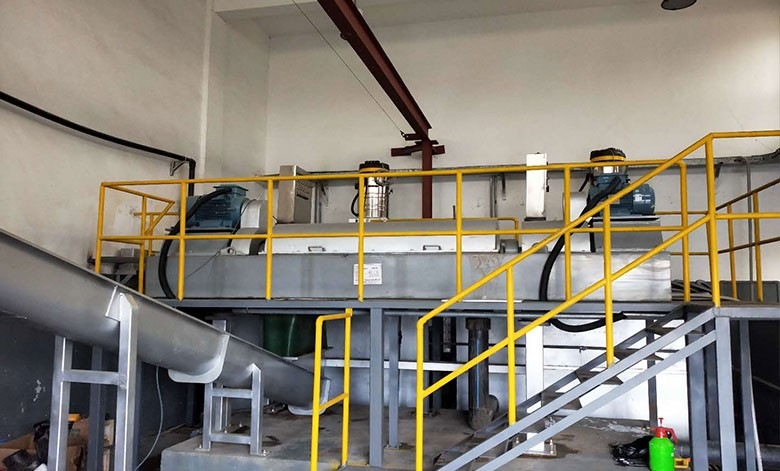oil: (556, 435, 588, 464)
